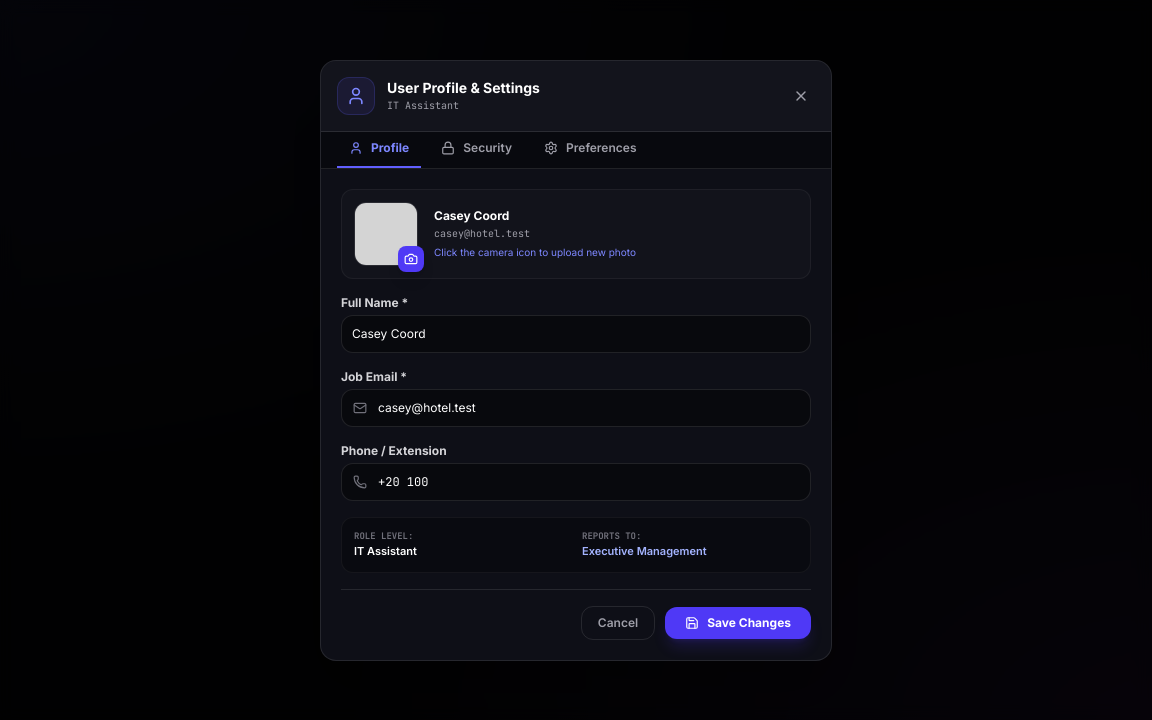
Test: UserProfileModal › saves a normalized profile payload and shows a success message
Replace the text in the field below "Full Name *" with "Casey Renamed" at coordinates (576, 334), box [341,314,811,352]
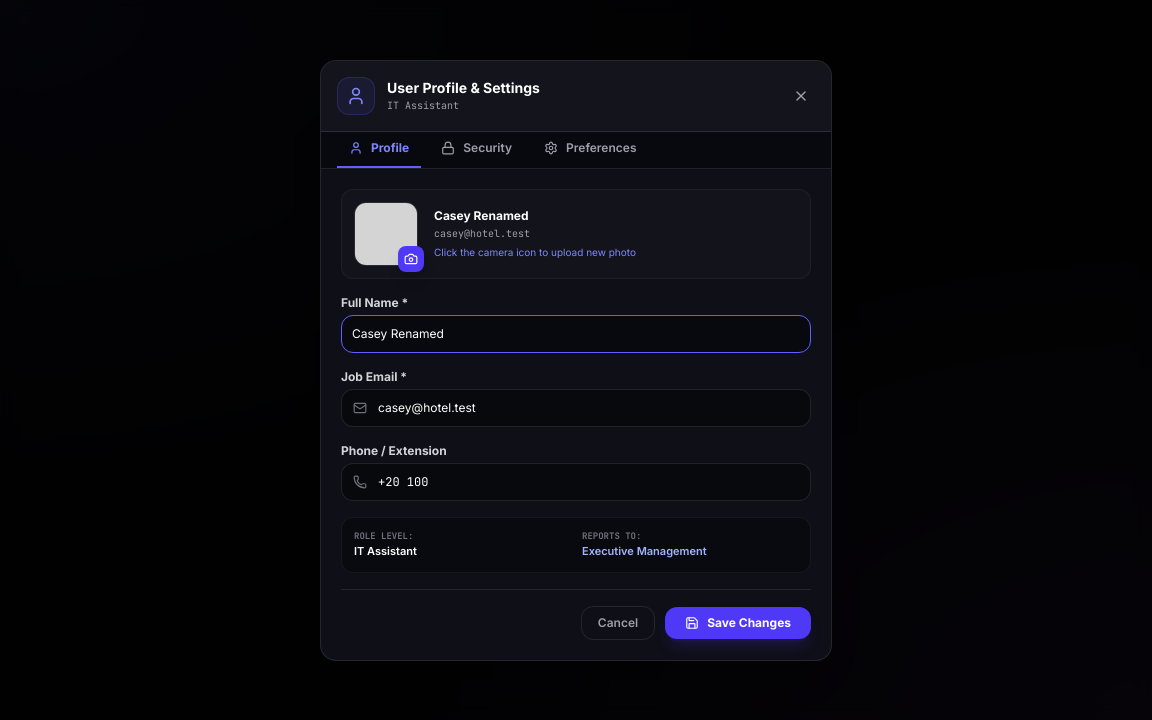
Replace the text in the field below "Job Email *" with "Casey.NEW@Hotel.test" at coordinates (576, 408), box [341,388,811,426]
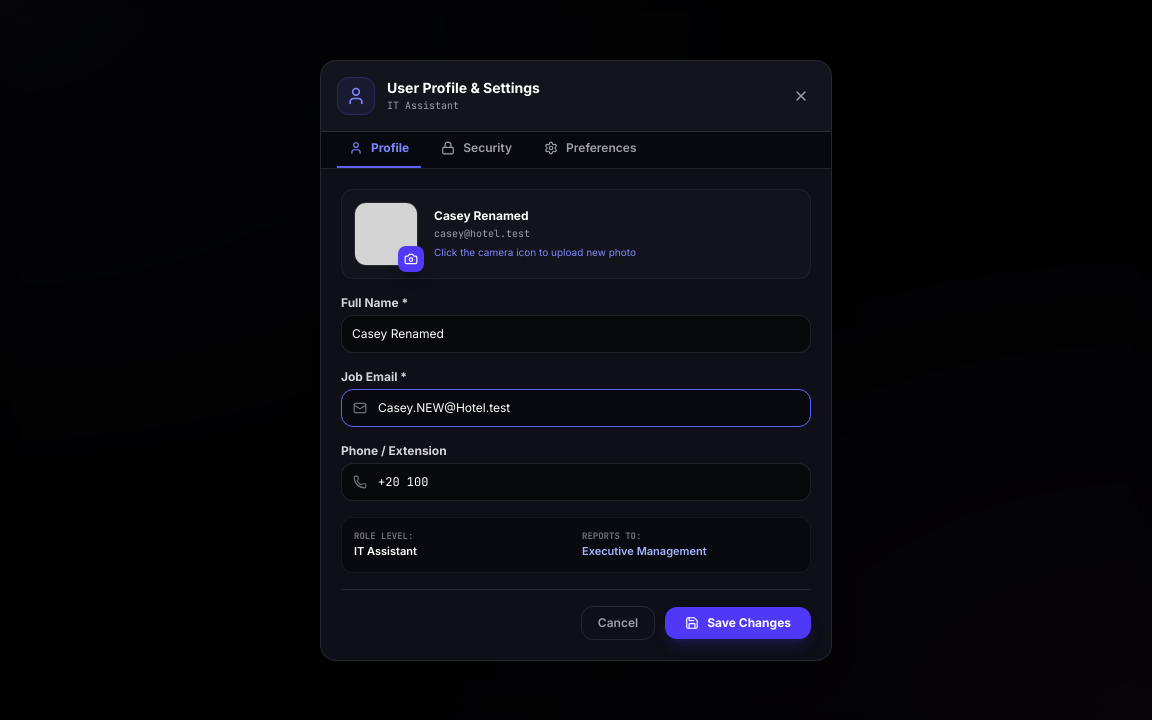
Click the button "Save Changes" at coordinates (738, 622), box [665,606,811,638]
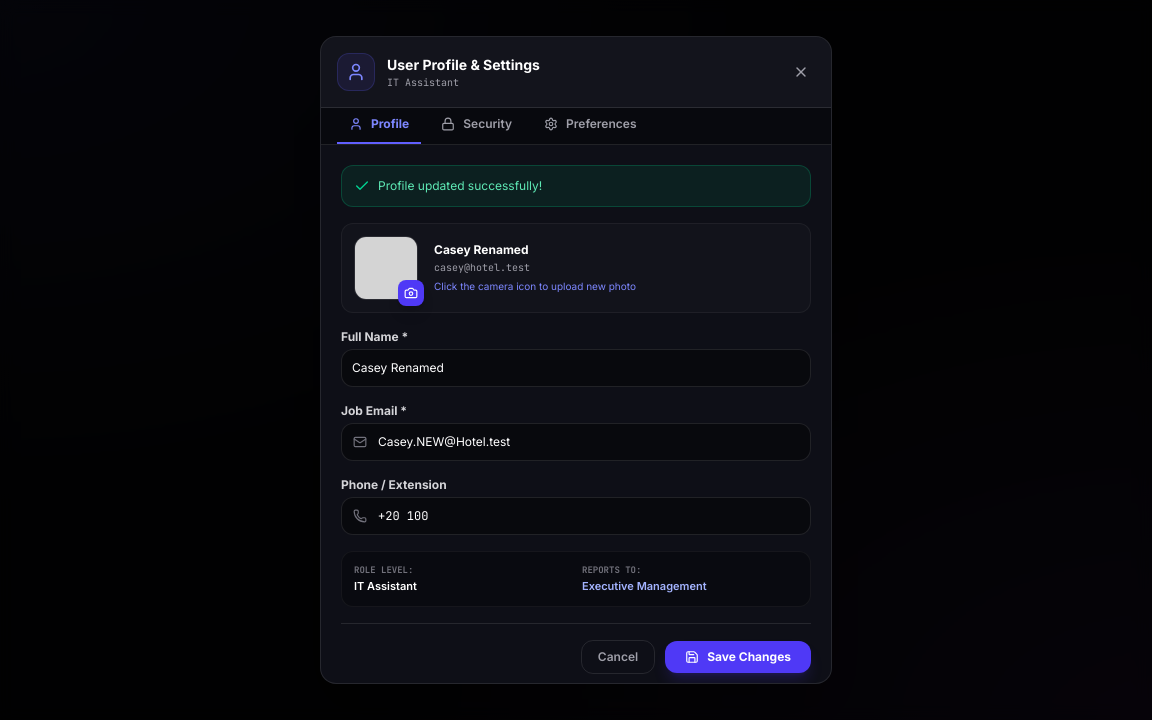
Expected: the text "Profile updated successfully!" is shown, [378,178,542,194]
